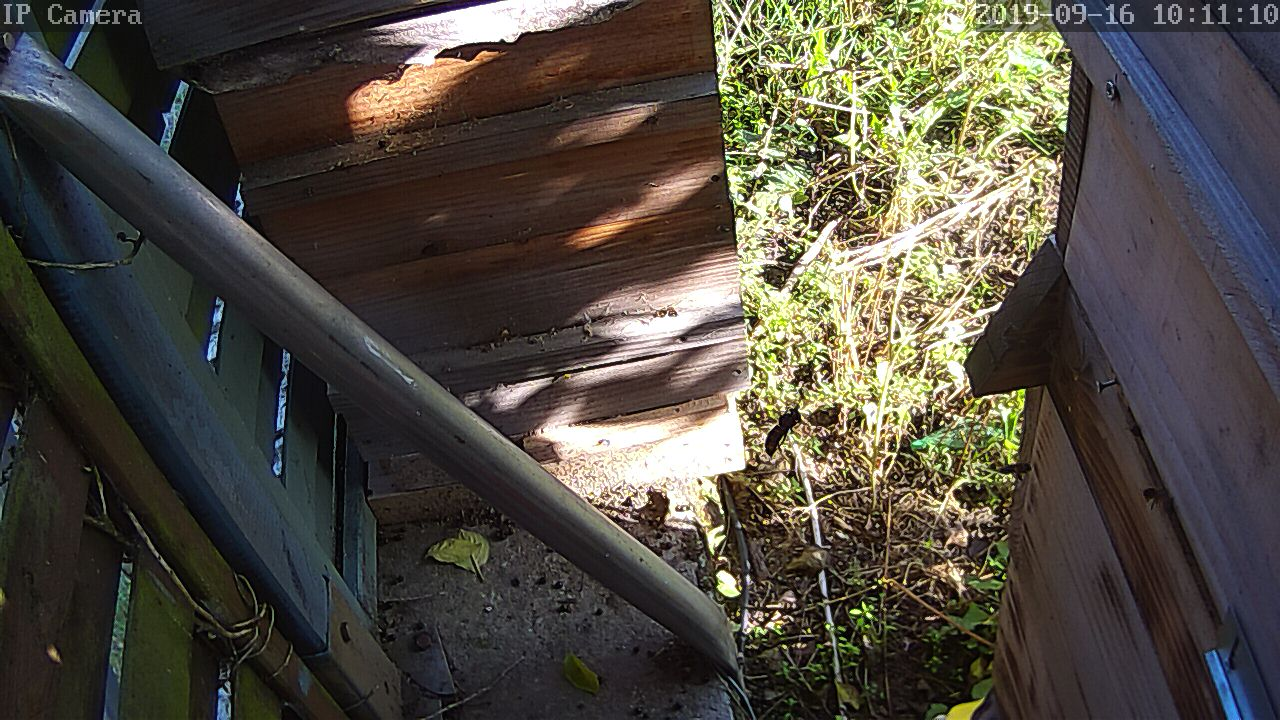bee: (981, 462, 1024, 494)
hornet: (759, 405, 806, 454)
